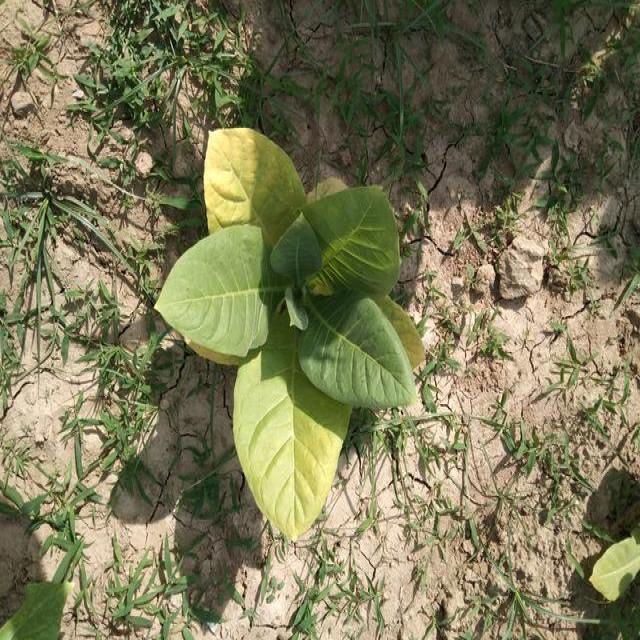crop: (154, 116, 432, 534)
